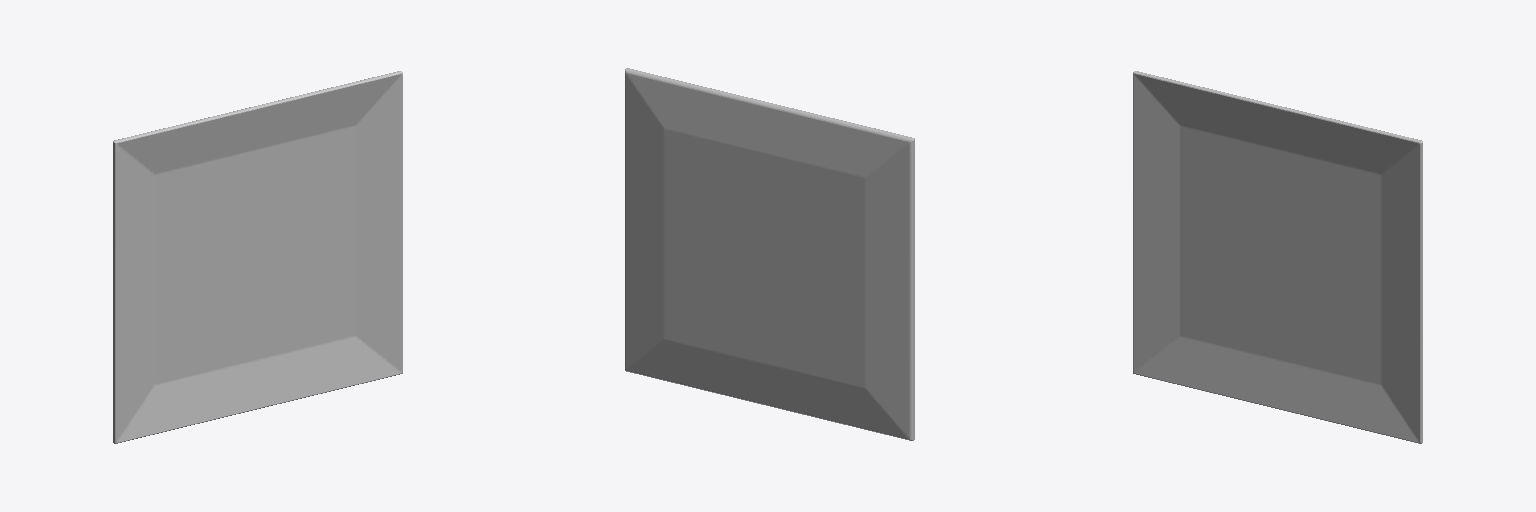
The model's file is renderPlate.obj.
3 renders of one model, left to right at view 1: azimuth 30°, elevation 25°; view 2: azimuth 150°, elevation 25°; view 3: azimuth 330°, elevation 25°, orthographic.
Parts seen in each view (by area): view 1: renderPlate; view 2: renderPlate; view 3: renderPlate.
Boxes of the visible parts, x1,y1,x2,y2 form: renderPlate: [113, 71, 402, 443]; renderPlate: [625, 68, 914, 440]; renderPlate: [1133, 71, 1422, 443].
Bounding box in the file's own units: 3.17 × 3.17 × 0.1264.